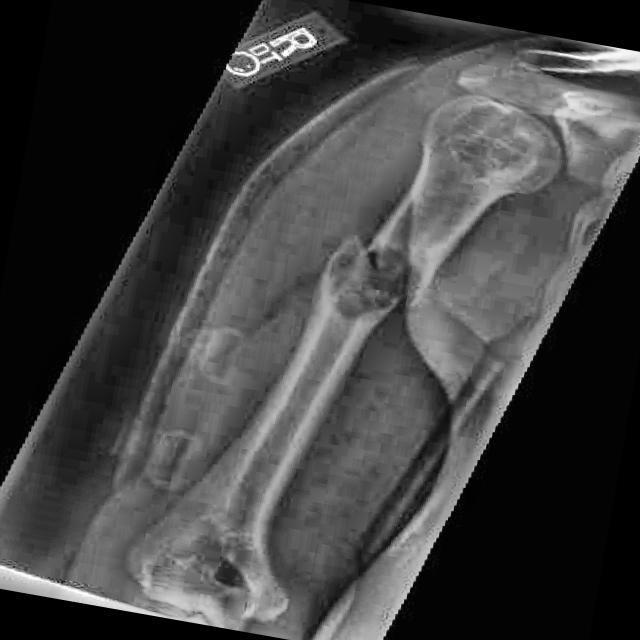humerus: (253, 177, 527, 398)
